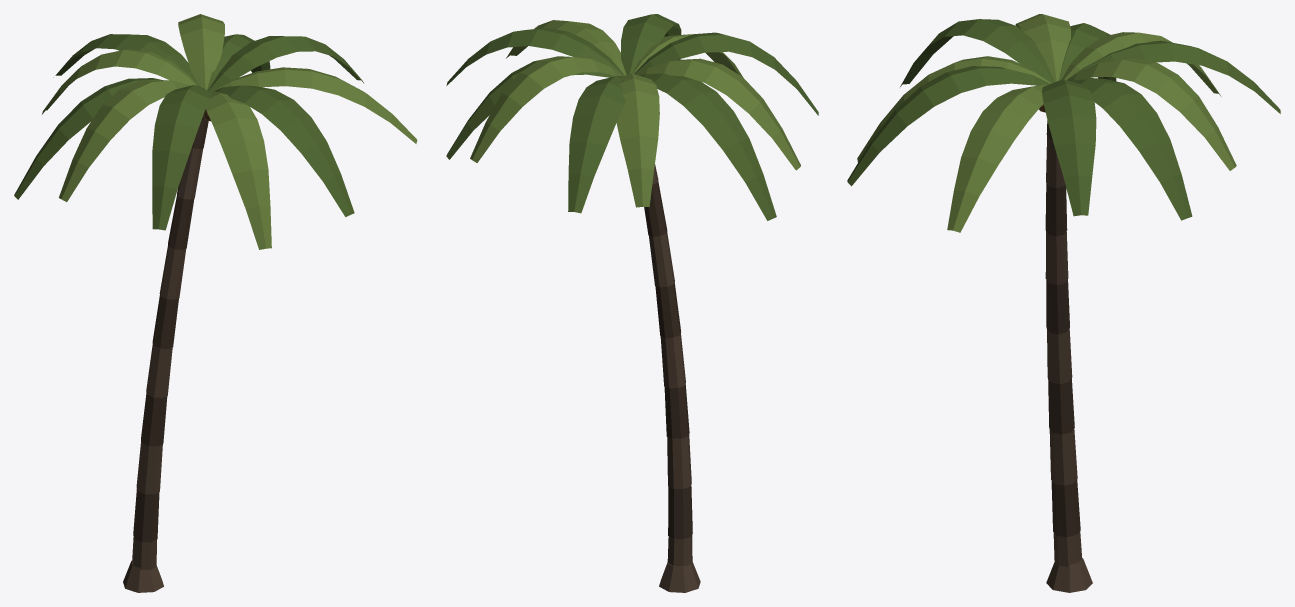
Rendered from AV_Tree_AshPalm.obj.
3 renders of one model, left to right at view 1: azimuth 30°, elevation 25°; view 2: azimuth 150°, elevation 25°; view 3: azimuth 270°, elevation 25°, orthographic. The views are drawn at different scales.
Parts seen in each view (by area): view 1: AV_Tree_AshPalm; view 2: AV_Tree_AshPalm; view 3: AV_Tree_AshPalm.
Boxes of the visible parts, x1,y1,x2,y2 form: AV_Tree_AshPalm: (14,14,417,592); AV_Tree_AshPalm: (446,14,818,592); AV_Tree_AshPalm: (847,14,1280,592).
Size of the model in its own units: 19.02 by 28.17 by 19.43.
